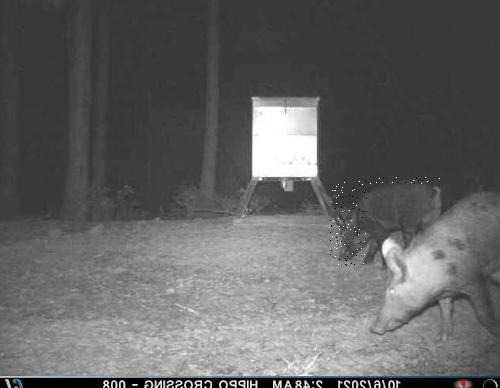Hog: (367, 185, 500, 356), (329, 177, 443, 266)
